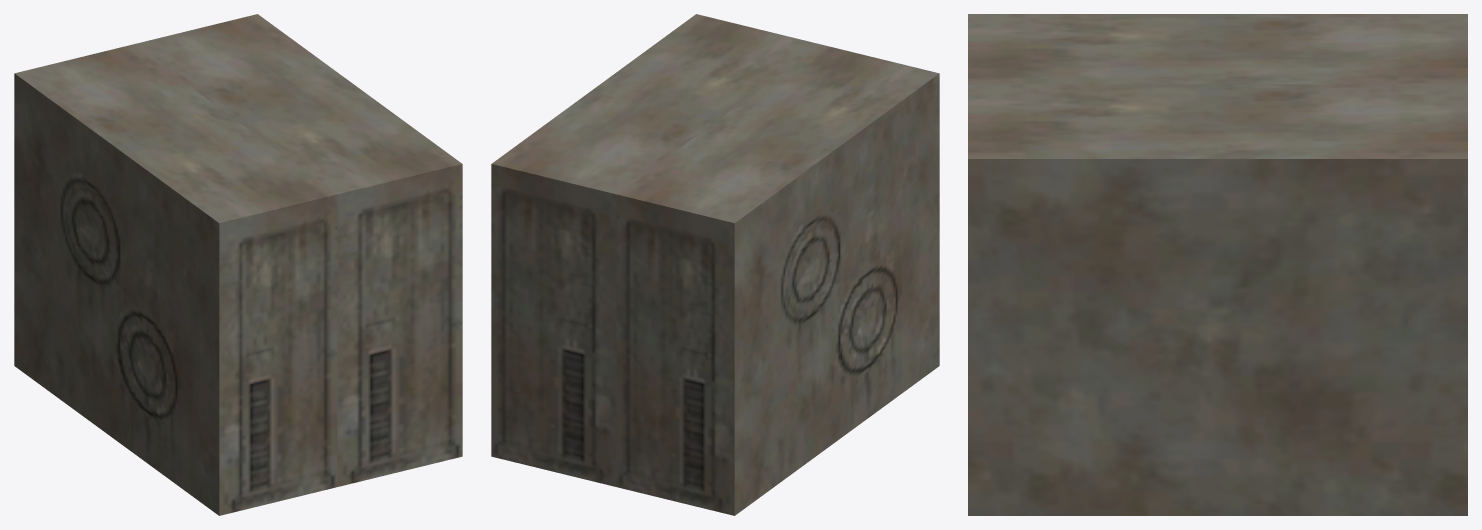
File: thm_tato_debris_s07_l2.fbx
3 renders of one model, left to right at view 1: azimuth 30°, elevation 25°; view 2: azimuth 150°, elevation 25°; view 3: azimuth 270°, elevation 25°, orthographic. The views are drawn at different scales.
Visible parts, largest first — view 1: mesh_node; view 2: mesh_node; view 3: mesh_node.
Part boxes in pixels (x1=…): mesh_node: x1=14, y1=14, x2=462, y2=515; mesh_node: x1=491, y1=14, x2=939, y2=515; mesh_node: x1=968, y1=14, x2=1467, y2=515.
Bounding box in the file's own units: 0.612 × 0.7038 × 0.8925.
Materials: 1 (1 with a texture image).
